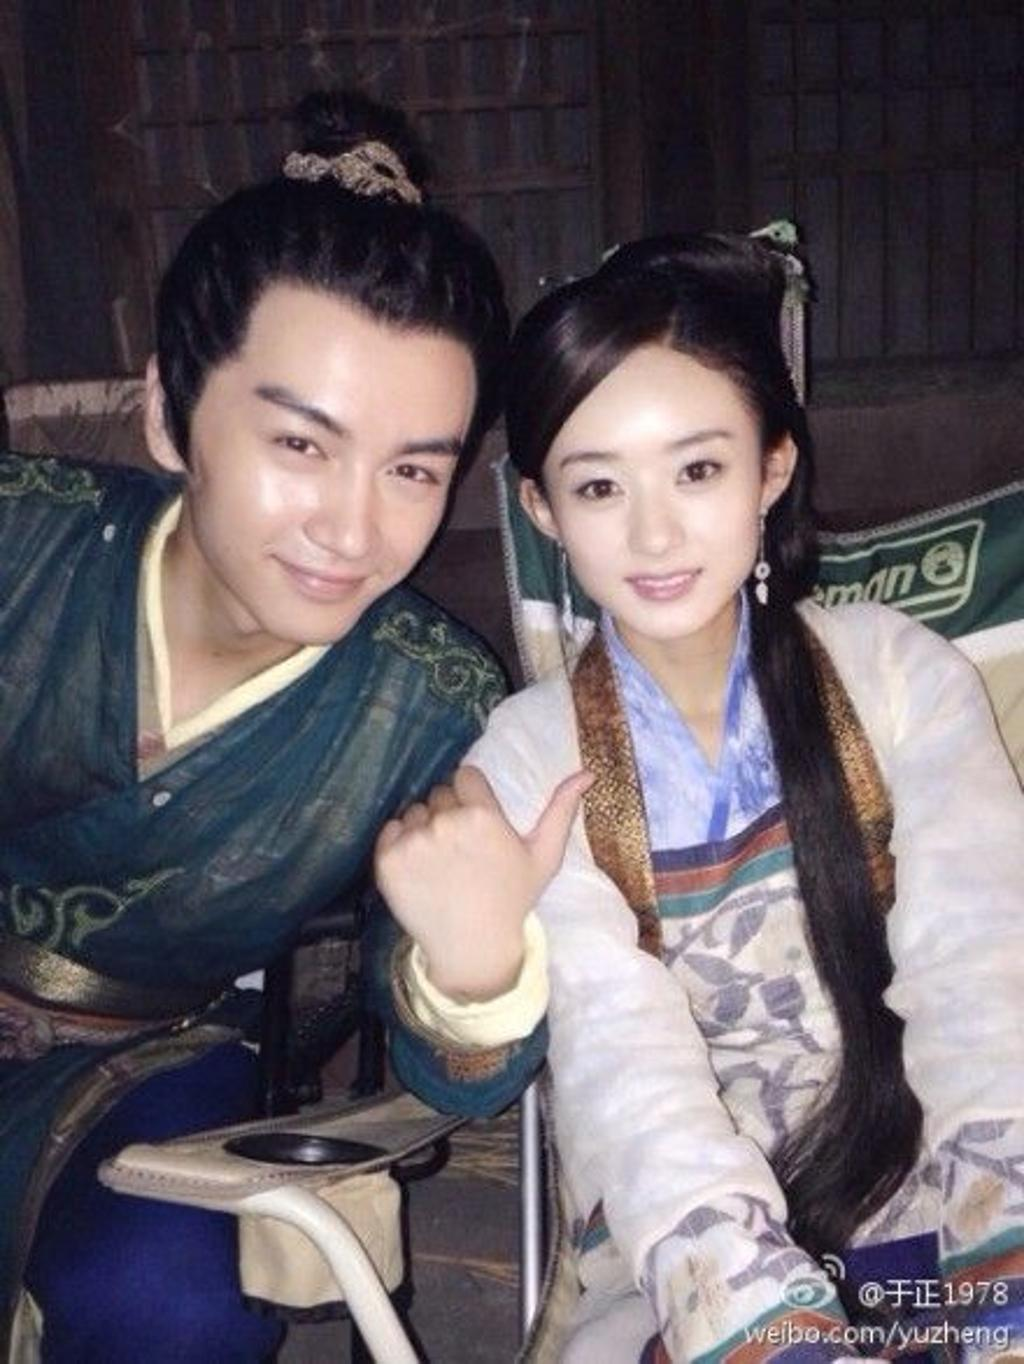face: (197, 291, 474, 643), (544, 344, 765, 640)
